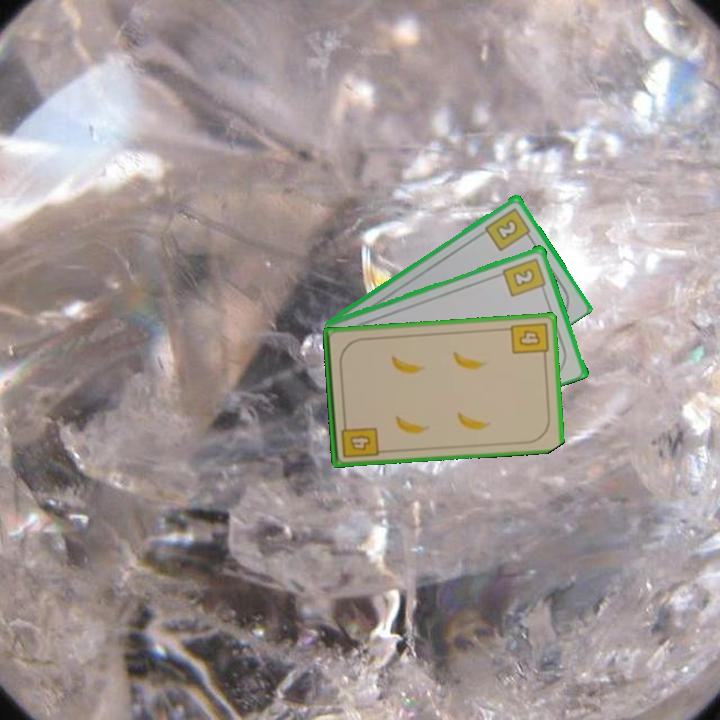2b: (481, 204, 535, 253), (500, 254, 549, 299)
4b: (507, 319, 551, 362), (337, 417, 381, 460)
